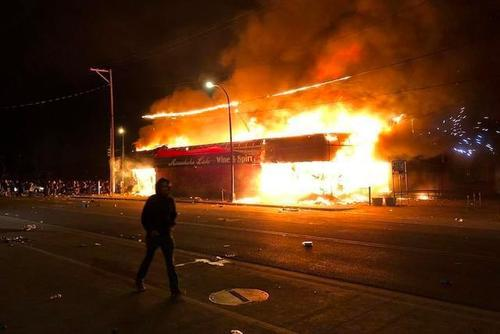fire: (115, 91, 400, 208)
smoke: (223, 9, 473, 83)
